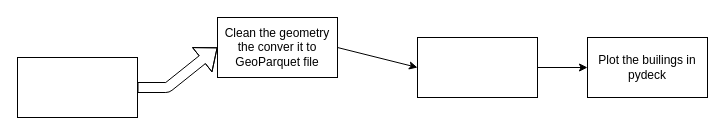
Image size: 725x135. Some labels were removed from this diagram. Here are the shapes that lost their labels. From the top down, the centre of each, then its label:
(77,87): Download the data from osm
(477,67): Read GeoParquet file and convert it to GeoJson
